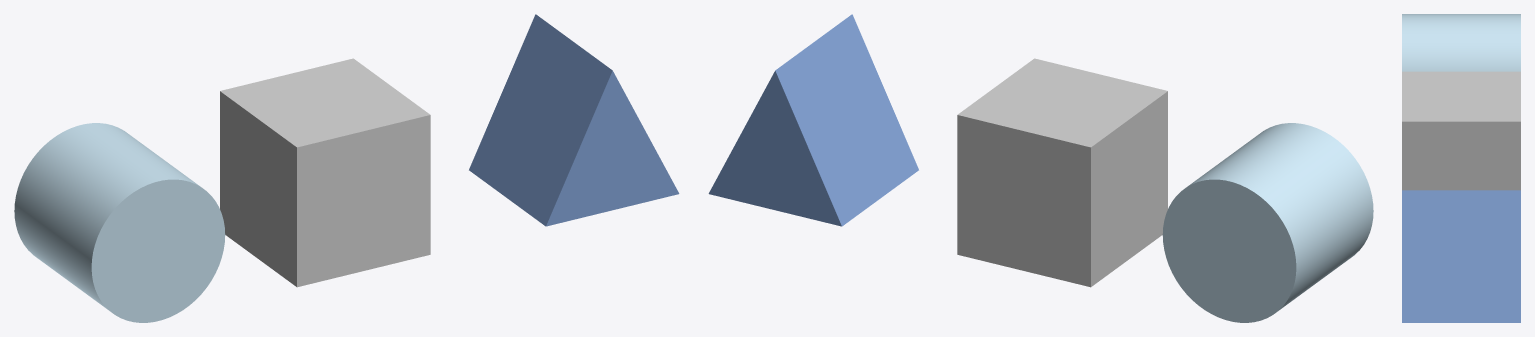
Rendered from interface.gltf.
The picture shows the model from 3 angles, left to right: view 1: azimuth 30°, elevation 25°; view 2: azimuth 150°, elevation 25°; view 3: azimuth 270°, elevation 25°; orthographic projection. The views are drawn at different scales.
Parts seen in each view (by area): view 1: stop, record, arrow; view 2: stop, record, arrow; view 3: arrow, stop, record.
Part boxes in pixels (x1,y1,x2,y2): stop: (220,58,430,287); record: (14,123,225,322); arrow: (469,14,679,226); stop: (957,58,1167,287); record: (1162,123,1373,322); arrow: (708,14,918,226); arrow: (1402,190,1520,322); stop: (1402,71,1520,190); record: (1402,14,1520,71).
Size of the model in its own units: 0.066 by 0.015 by 0.015.
